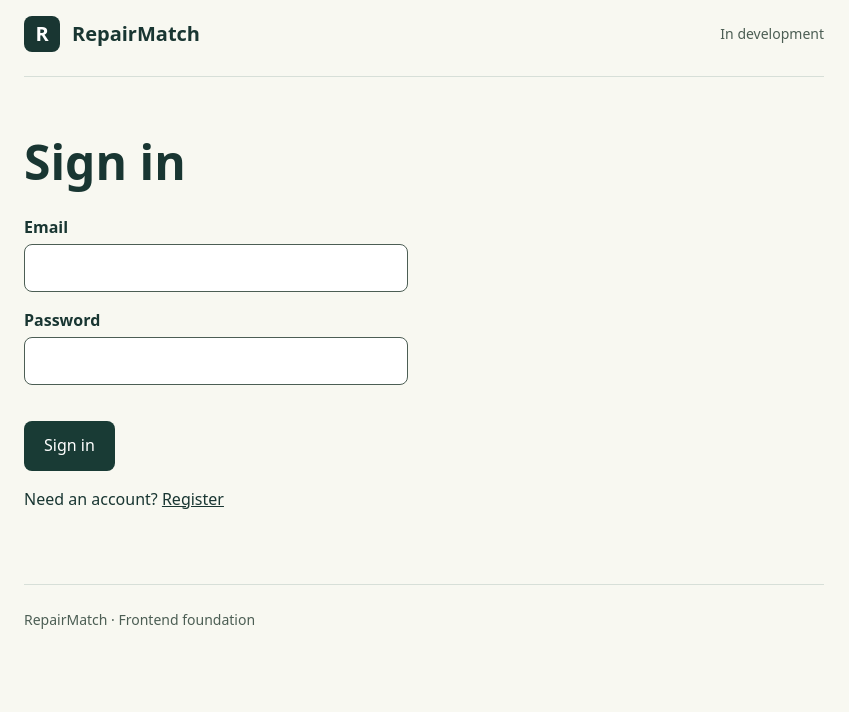
Test: login form › shows the server message and re-enables the form on bad credentials
In the field labelled "Email": (216, 268) x1=24 y1=244 x2=408 y2=292, type "client@example.test"
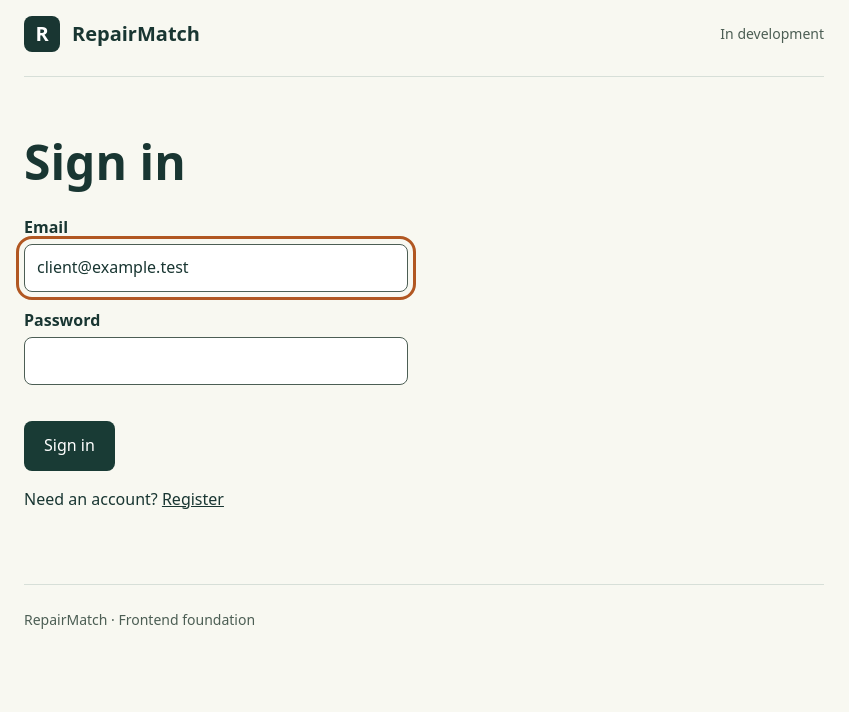
In the password field labelled "Password": (216, 361) x1=24 y1=337 x2=408 y2=385, type "Test-pass-1"
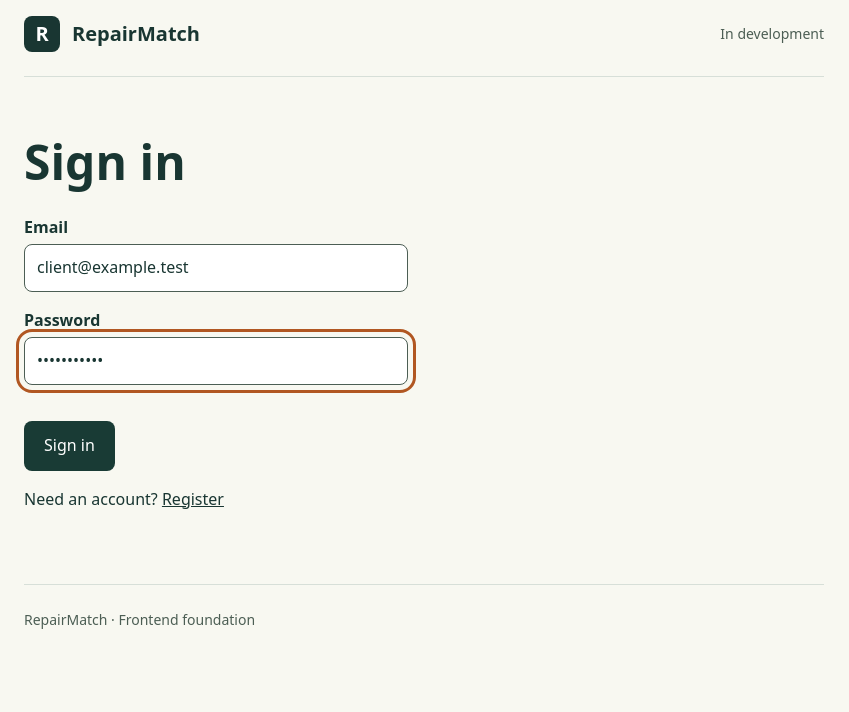
Click the button "Sign in": (69, 446) x1=24 y1=421 x2=115 y2=471
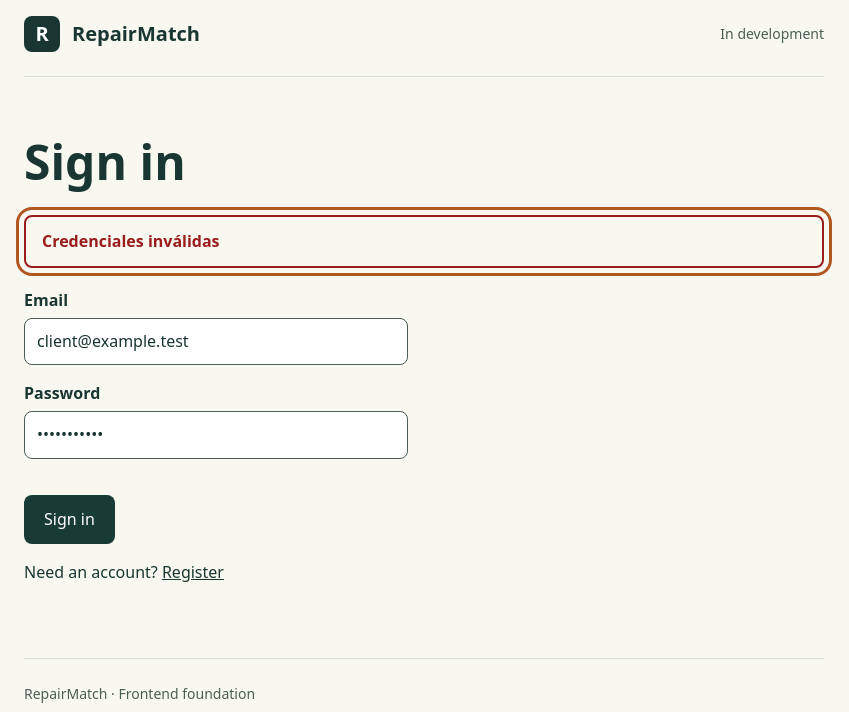
Expected: the button "Sign in" is enabled, x1=24 y1=495 x2=115 y2=544
Expected: the message reads "Credenciales inválidas", x1=42 y1=230 x2=220 y2=252
